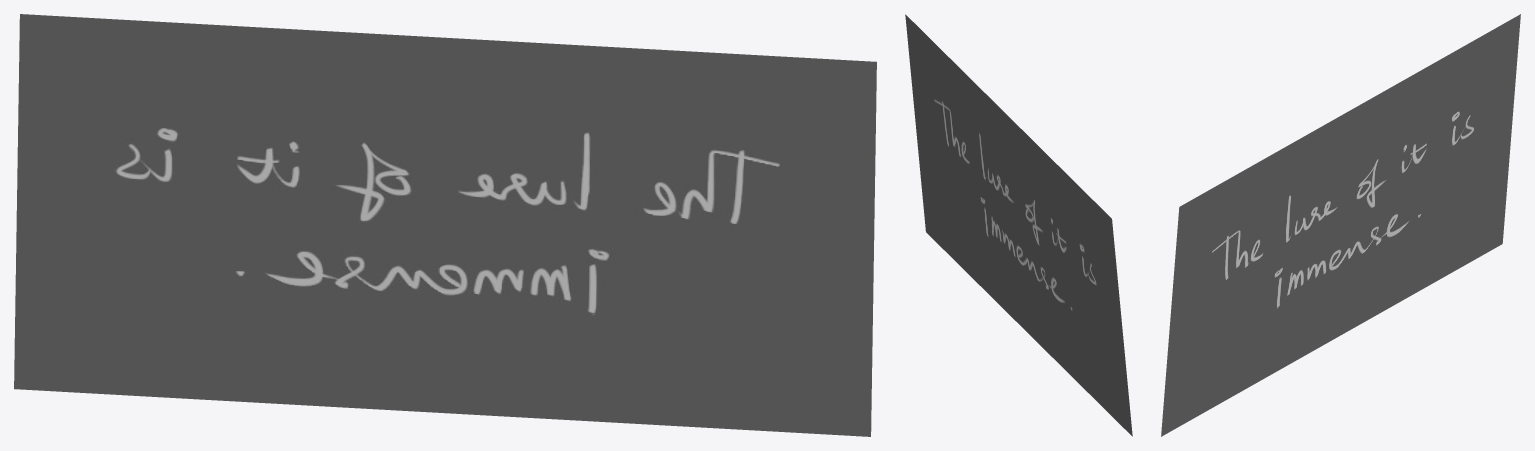
3 views of the same model, side by side, from view 1: azimuth 30°, elevation 25°; view 2: azimuth 150°, elevation 25°; view 3: azimuth 270°, elevation 25° (orthographic). The views are drawn at different scales.
Visible parts, largest first — view 1: Plane.012; view 2: Plane.012; view 3: Plane.012.
Boxes of the visible parts, x1,y1,x2,y2 form: Plane.012: [14, 14, 876, 436]; Plane.012: [905, 14, 1132, 436]; Plane.012: [1161, 14, 1520, 436].
Bounding box in the file's own units: 2.16 × 1.21 × 1.66.
Materials: 1 (1 with a texture image).
